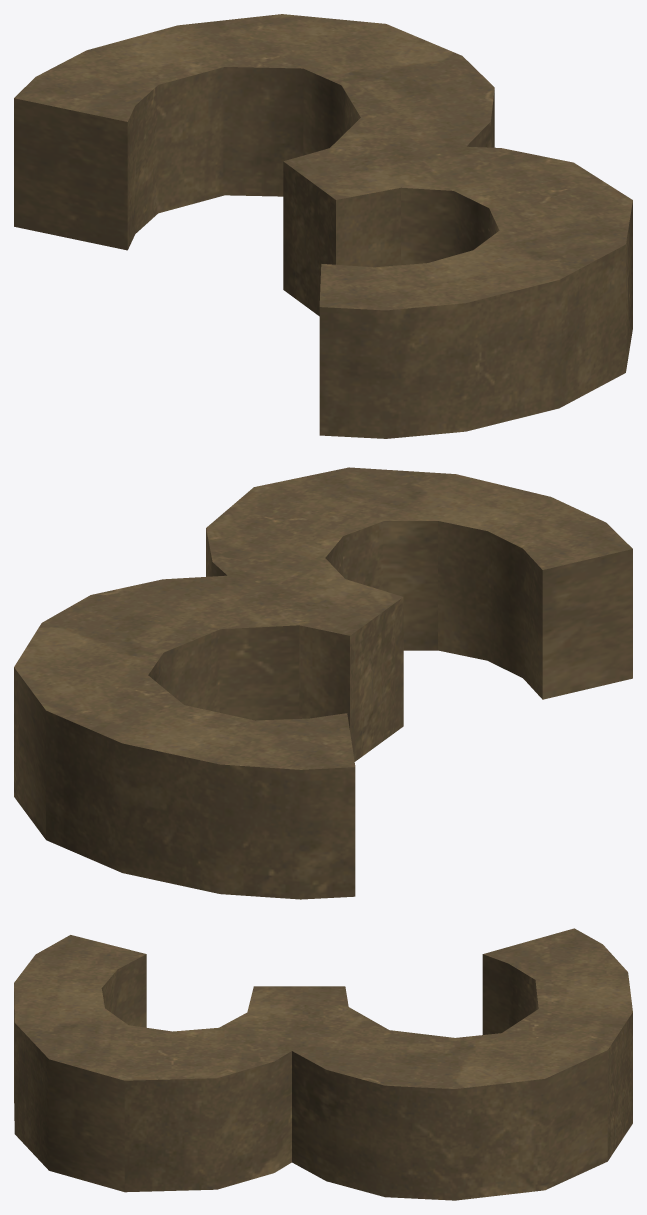
The model's file is p6_3d_txt_levenim_frnt_gold_3_LOD0.obj.
The picture shows the model from 3 angles, top to bottom: view 1: azimuth 30°, elevation 25°; view 2: azimuth 150°, elevation 25°; view 3: azimuth 270°, elevation 25°; orthographic projection. The views are drawn at different scales.
Parts seen in each view (by area): view 1: dub_gold_shiny_01; view 2: dub_gold_shiny_01; view 3: dub_gold_shiny_01.
Boxes of the visible parts, x1,y1,x2,y2 form: dub_gold_shiny_01: [14, 14, 632, 438]; dub_gold_shiny_01: [14, 467, 632, 899]; dub_gold_shiny_01: [14, 928, 632, 1200].
Size of the model in its own units: 59.8 by 19.34 by 97.29.
